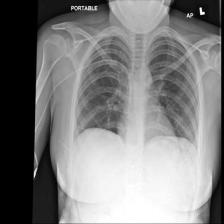normal: (67, 21, 204, 161)
